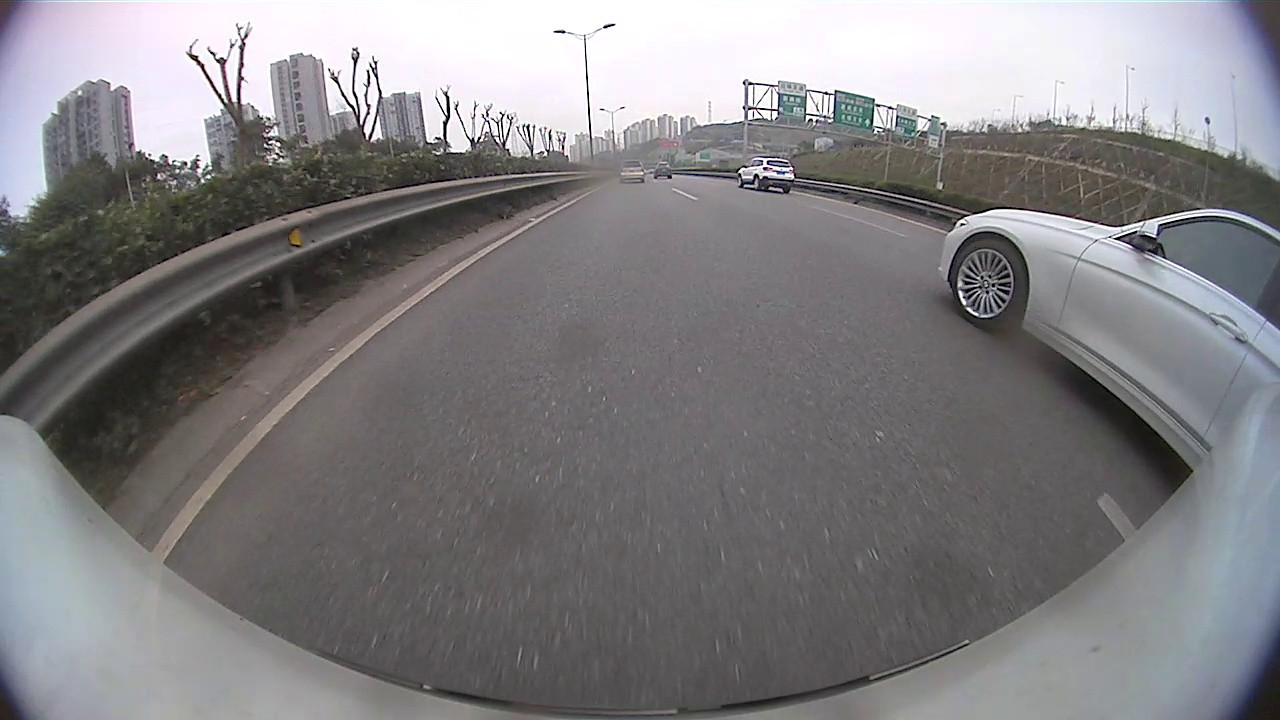car: (938, 204, 1279, 470), (735, 155, 795, 194), (618, 157, 645, 181)
front: (947, 237, 1030, 334), (737, 174, 743, 189)
rear: (752, 176, 763, 192)
